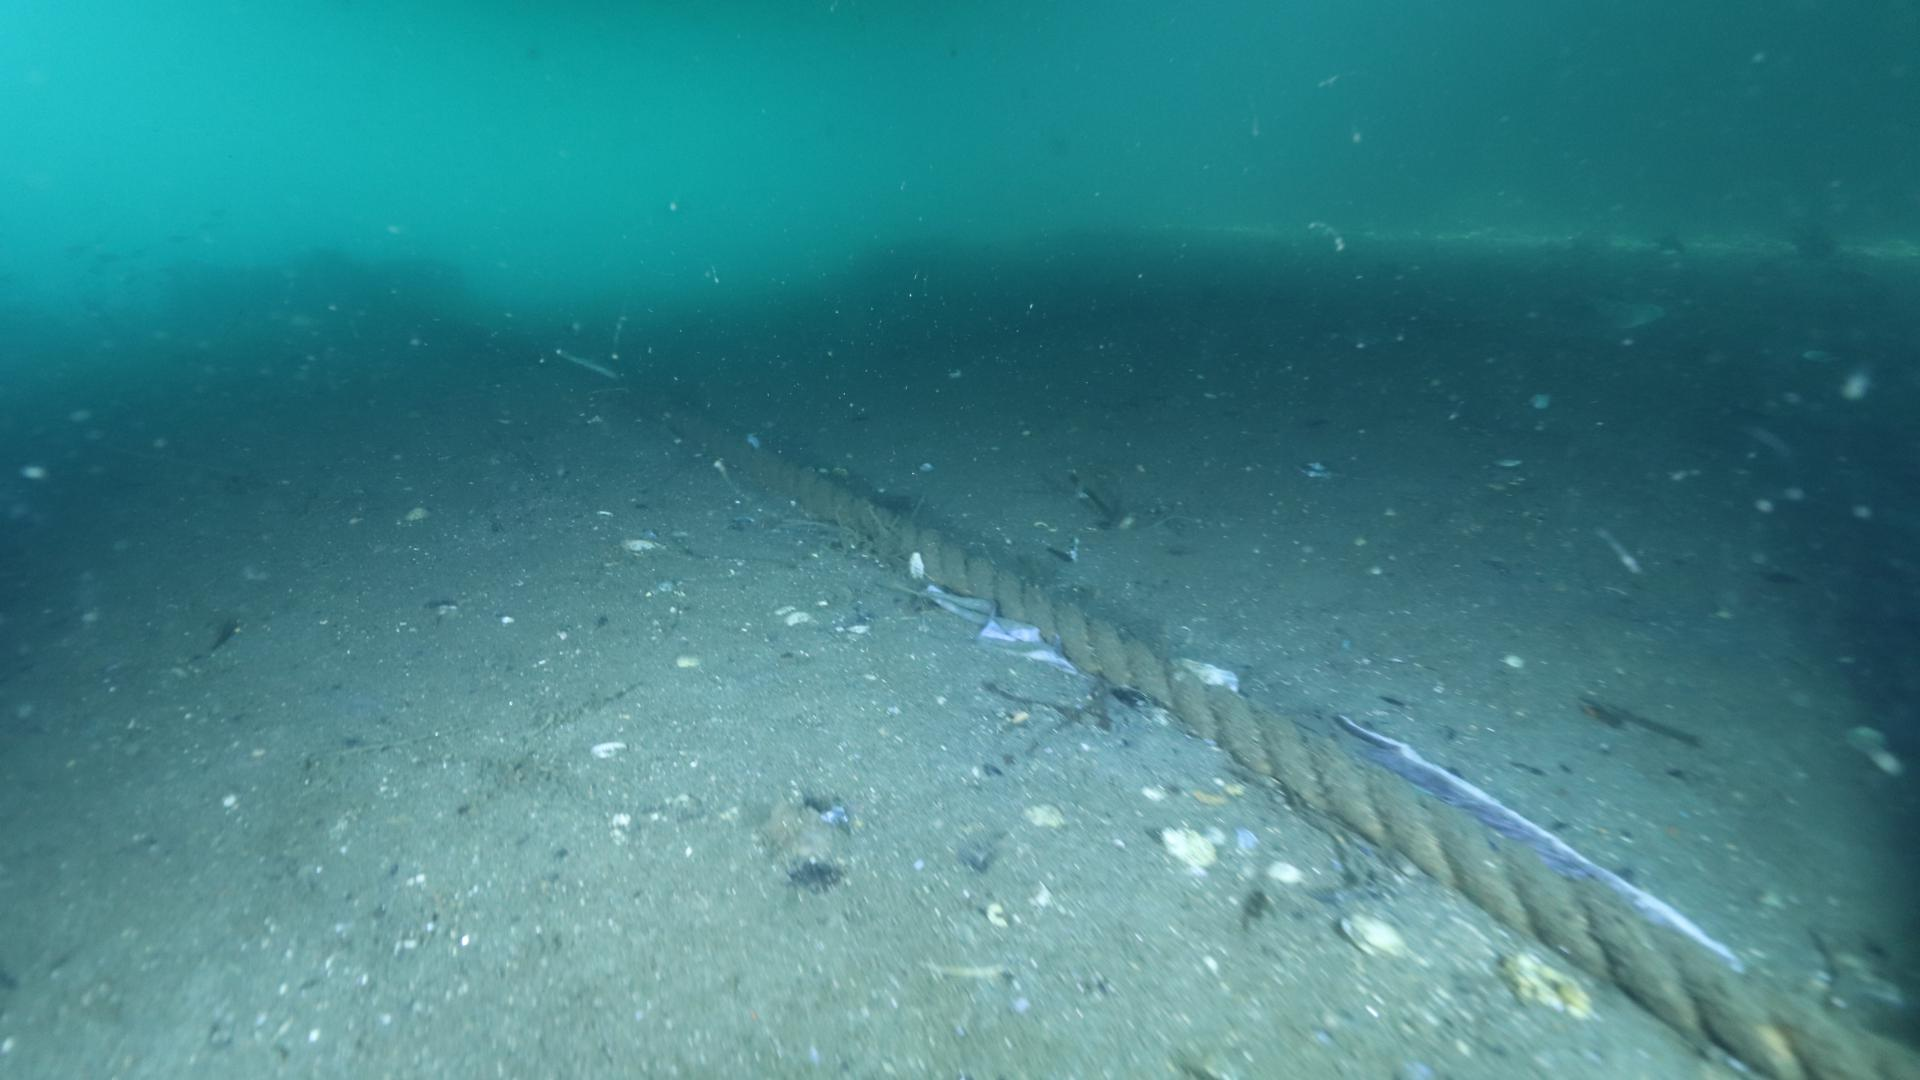rope: (667, 411, 1920, 1080)
